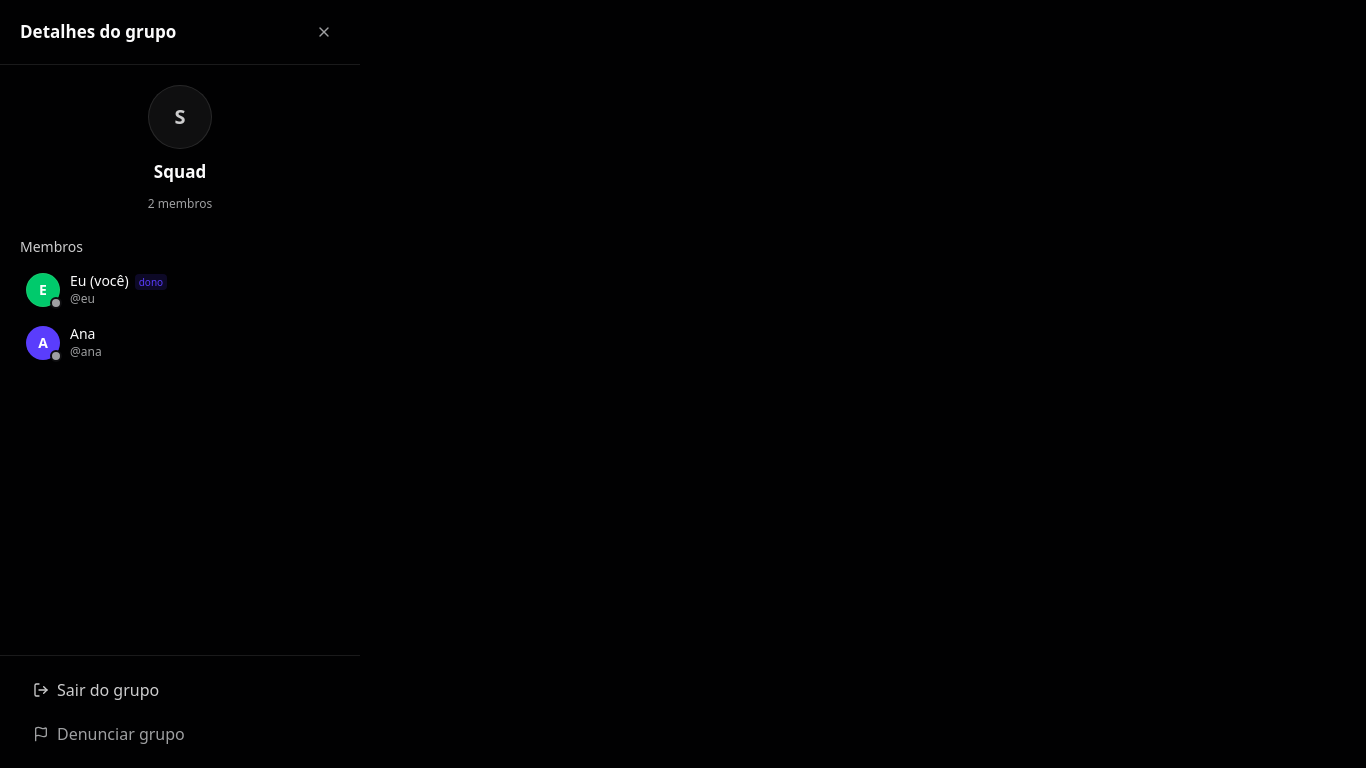
Scenario: GroupDetailsPanel — invitations › any member can report the group
Click the button "Denunciar grupo".
click(180, 734)  # box 20,716 -> 340,752
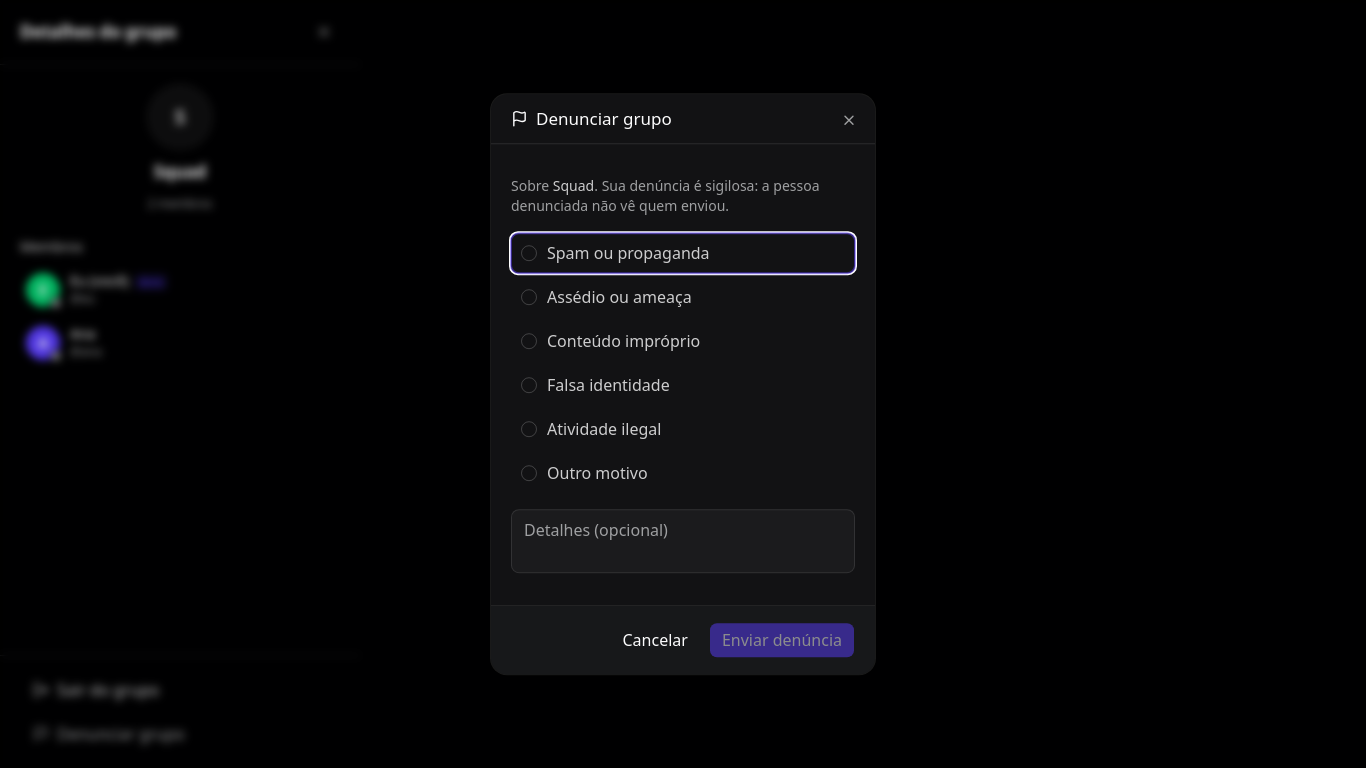
Expected: the dialog shows "Denunciar grupo", 491,94 -> 875,674
